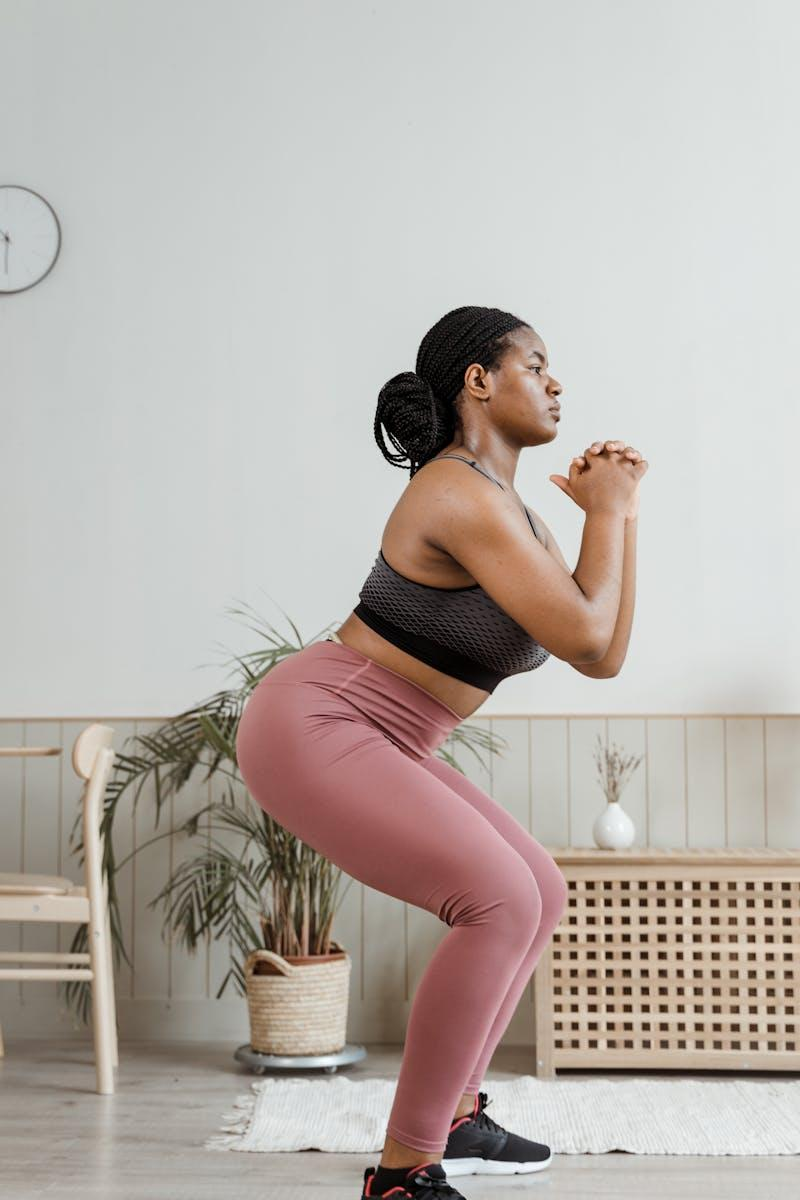Prepare: (233, 303, 647, 1197)
